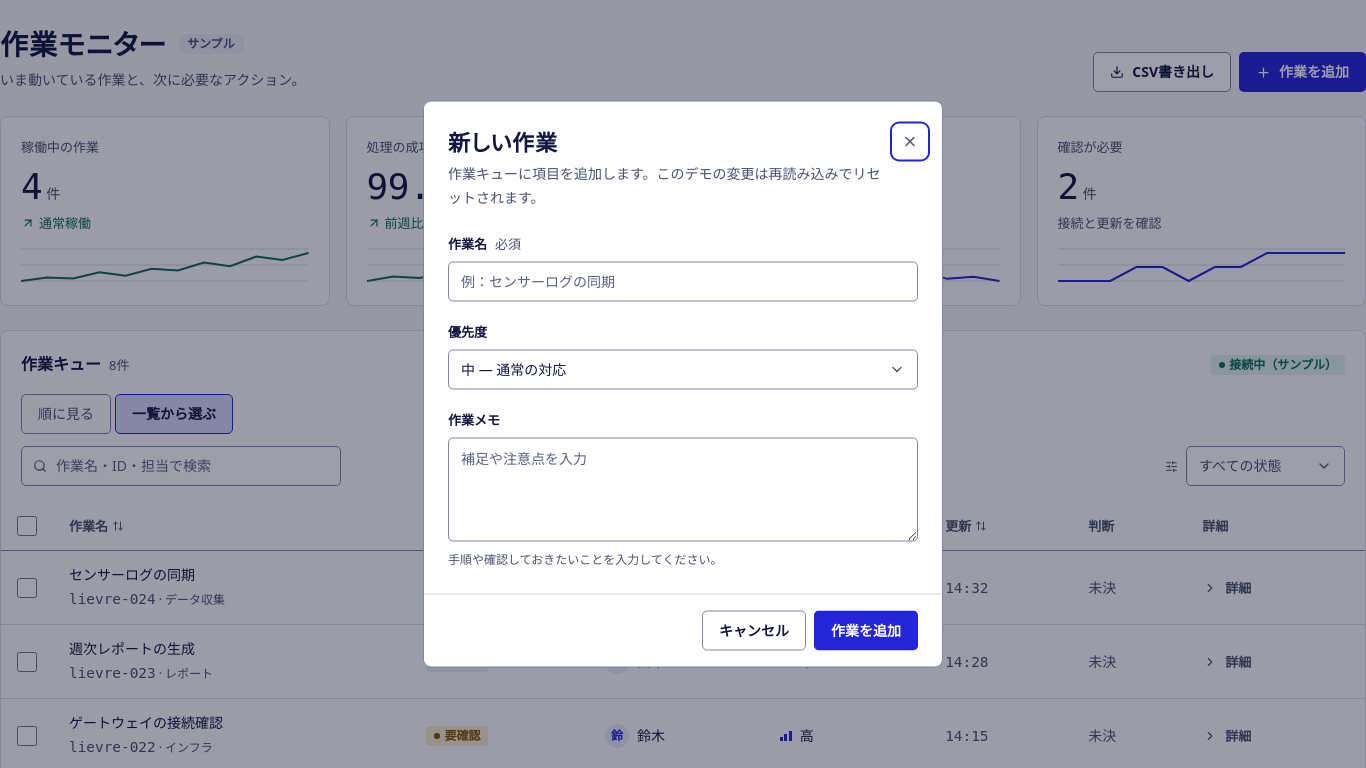
Workspace flows › validates, creates, searches and opens the newly created record with its notes
The width and height of the screenshot is (1366, 768).
Earlier steps of the test are not shown.
Click the button "作業を追加" at point(866, 630), box [814, 610, 918, 650]
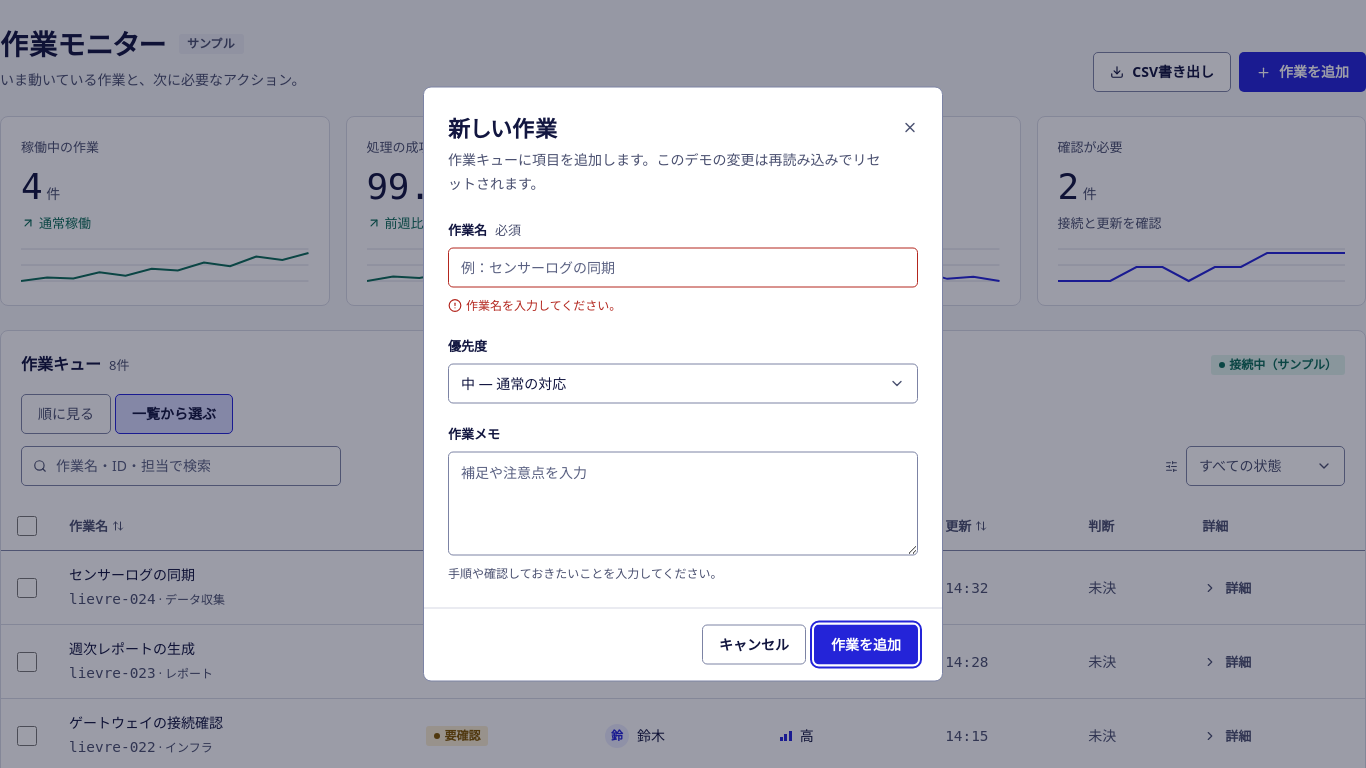
Check: the text "作業名を入力してください。" is shown, box [466, 296, 621, 316]
Type "新しい接続テスト" into the field labelled "作業名" at point(683, 268), box [448, 248, 918, 288]
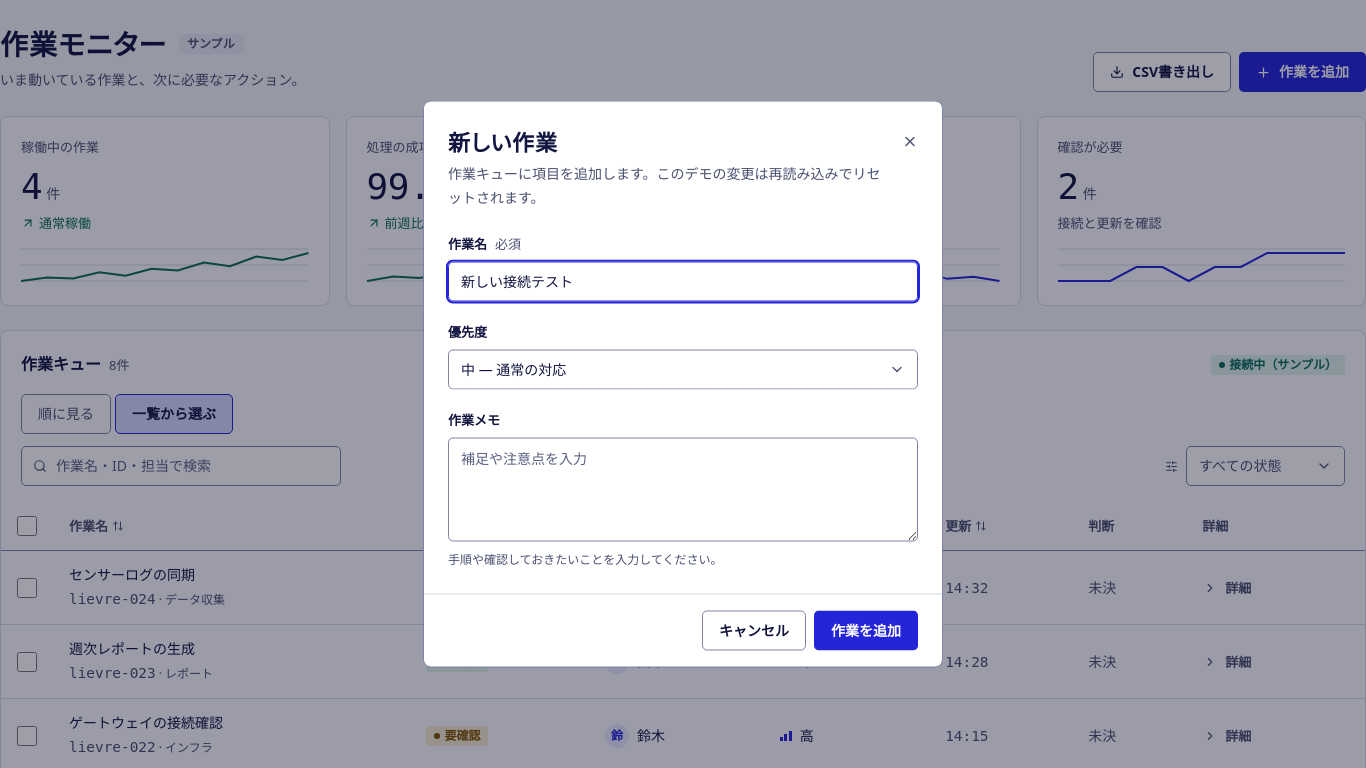
Type "機材の電源を確認" into the text box labelled "作業メモ" at point(683, 490), box [448, 438, 918, 542]
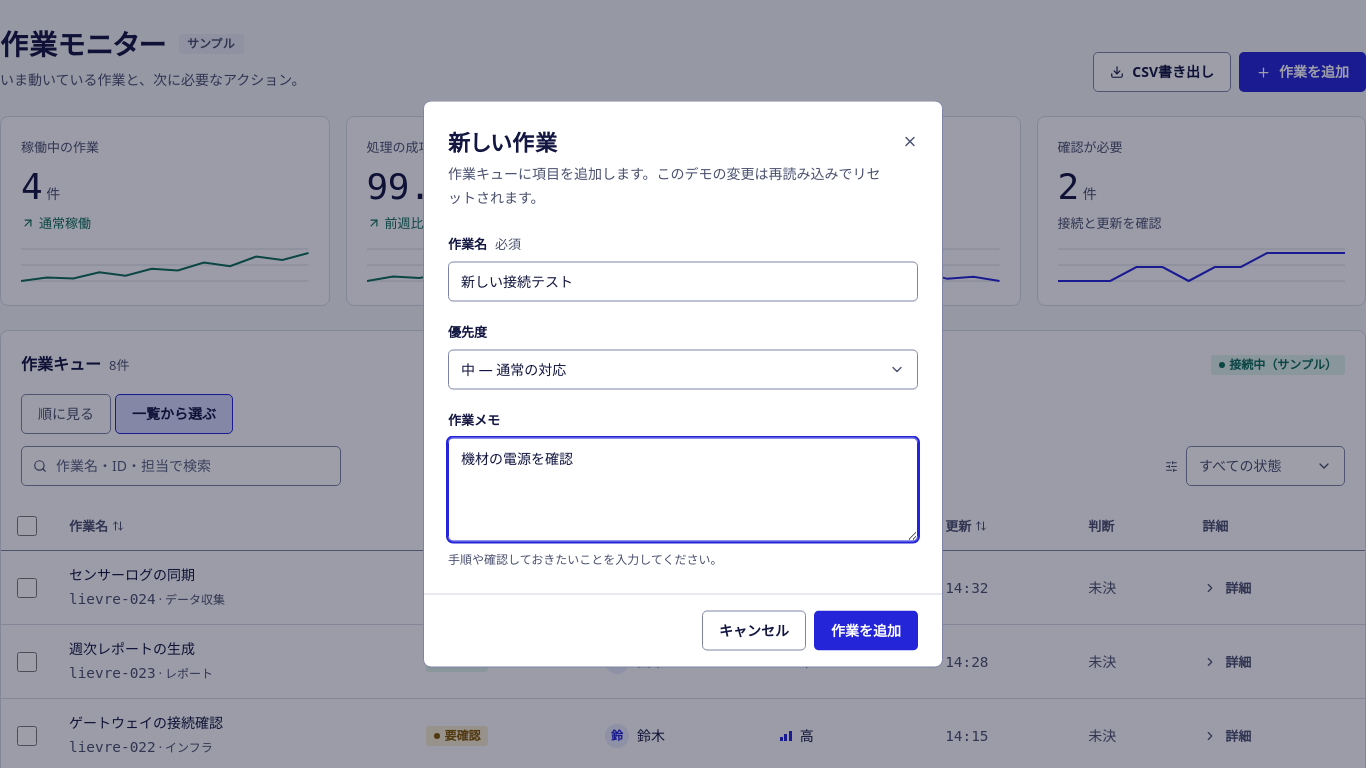
Click the button "作業を追加" at point(866, 630), box [814, 610, 918, 650]
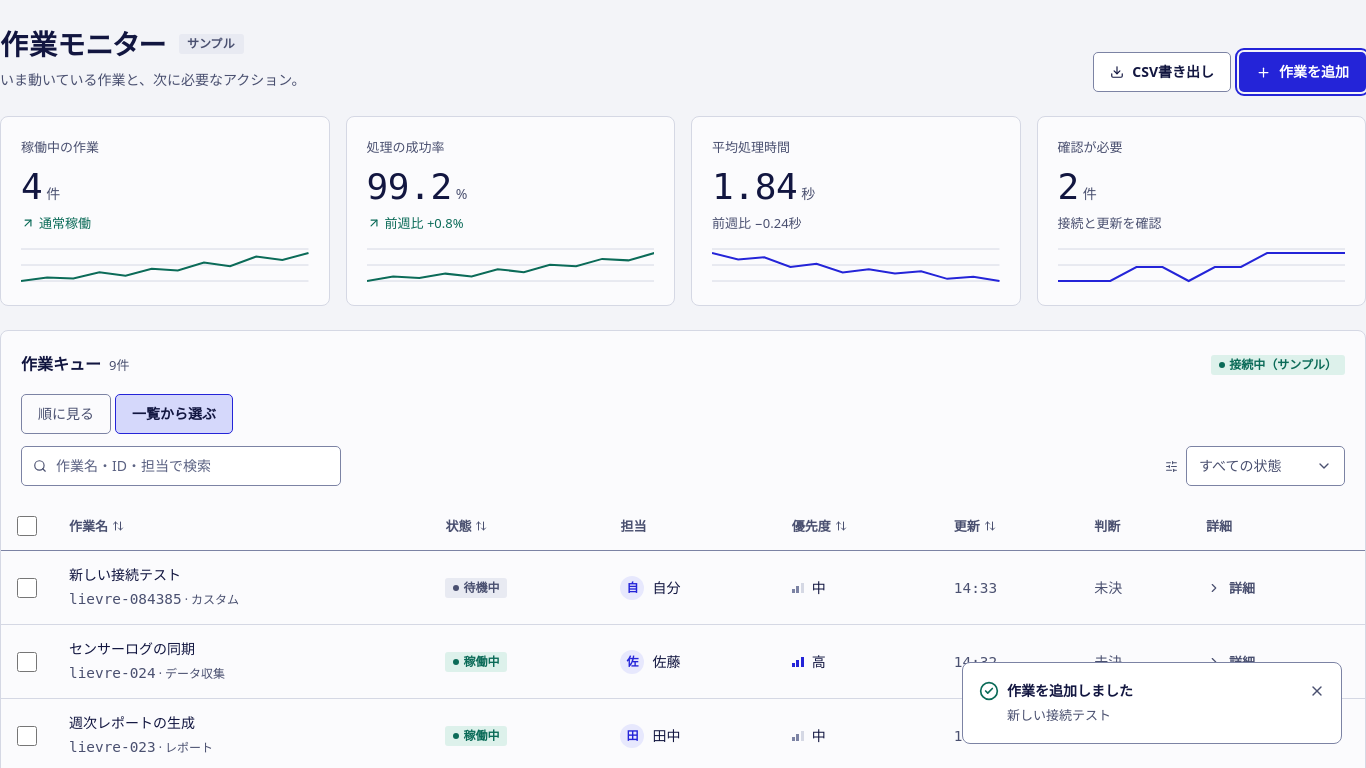
Check: the dialog is gone
Type "新しい接続テスト" into the field named "作業を検索" at point(181, 466), box [21, 446, 341, 486]
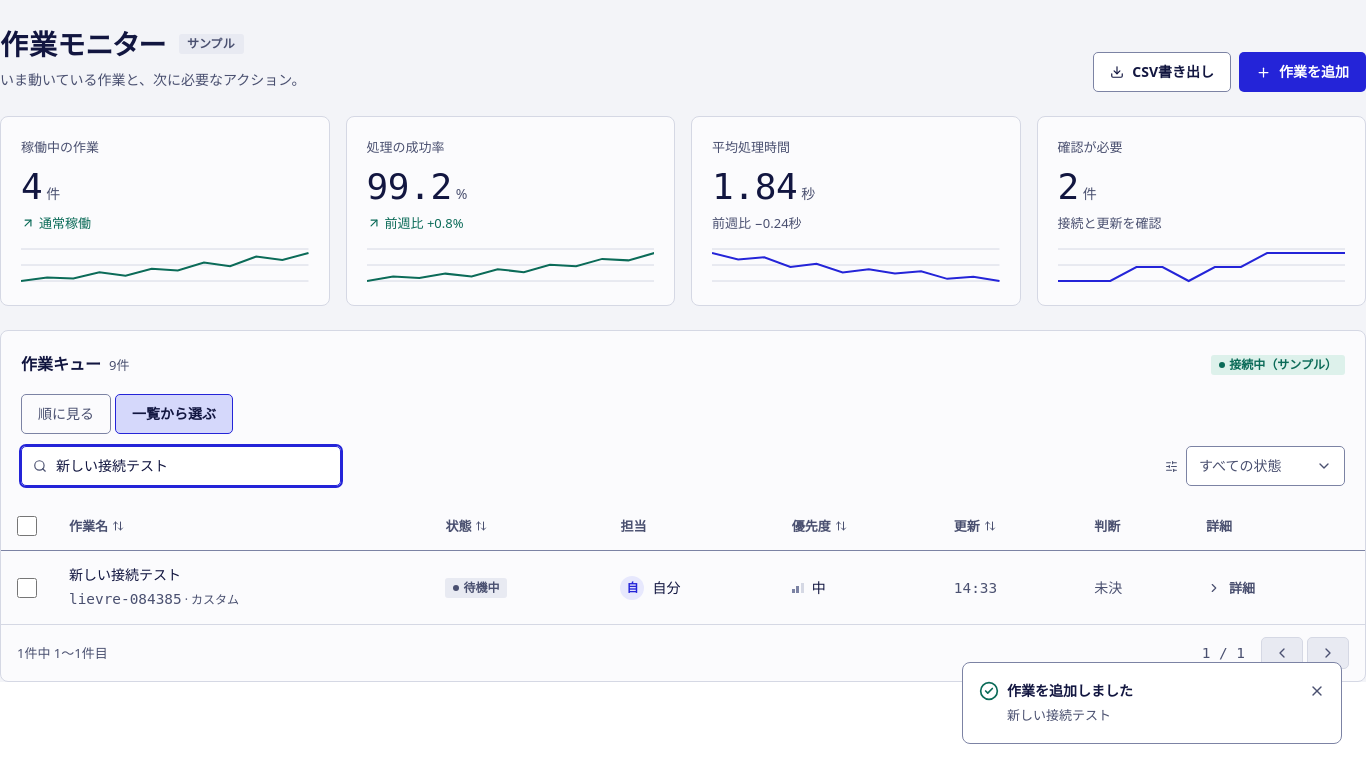
Click the button with aria-label "詳細を開く" at point(1231, 588), box [1194, 572, 1268, 604]
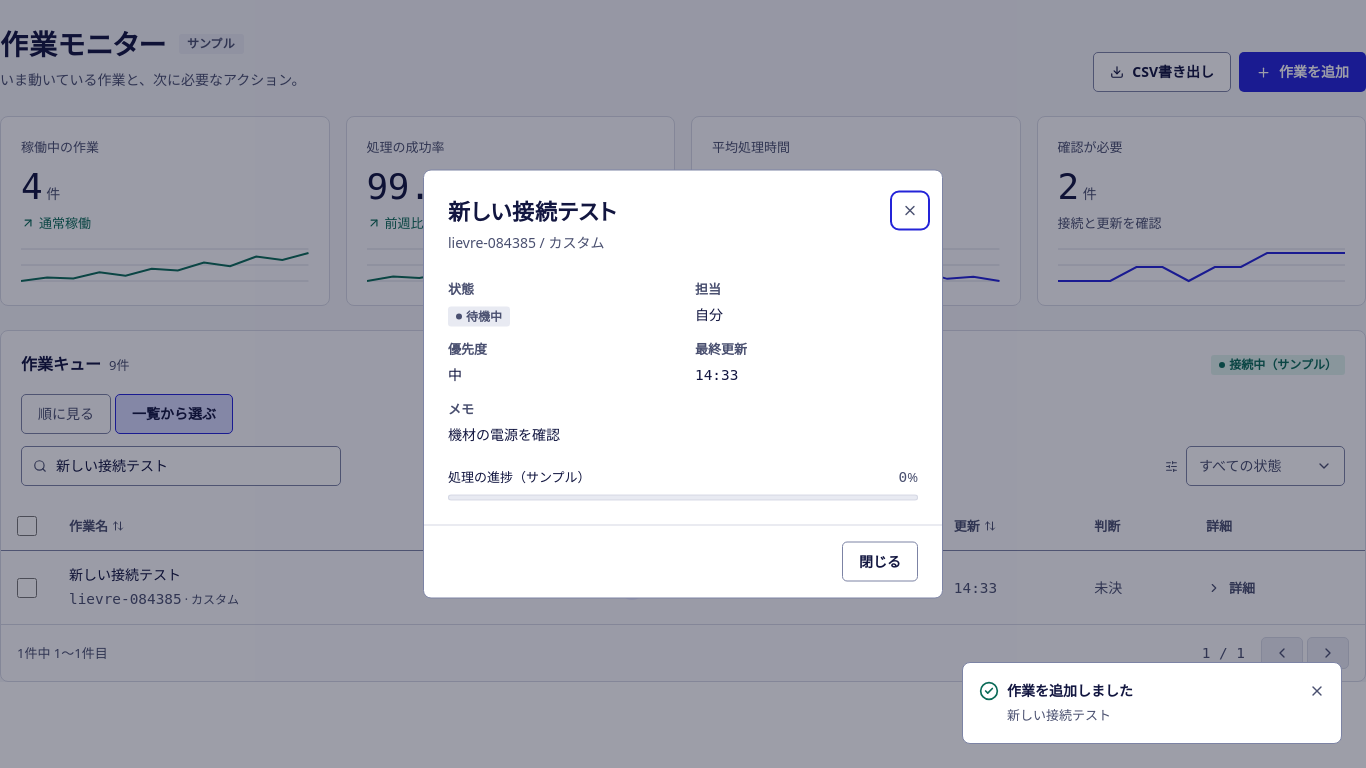
Check: the text "機材の電源を確認" is shown, box [448, 424, 560, 444]
